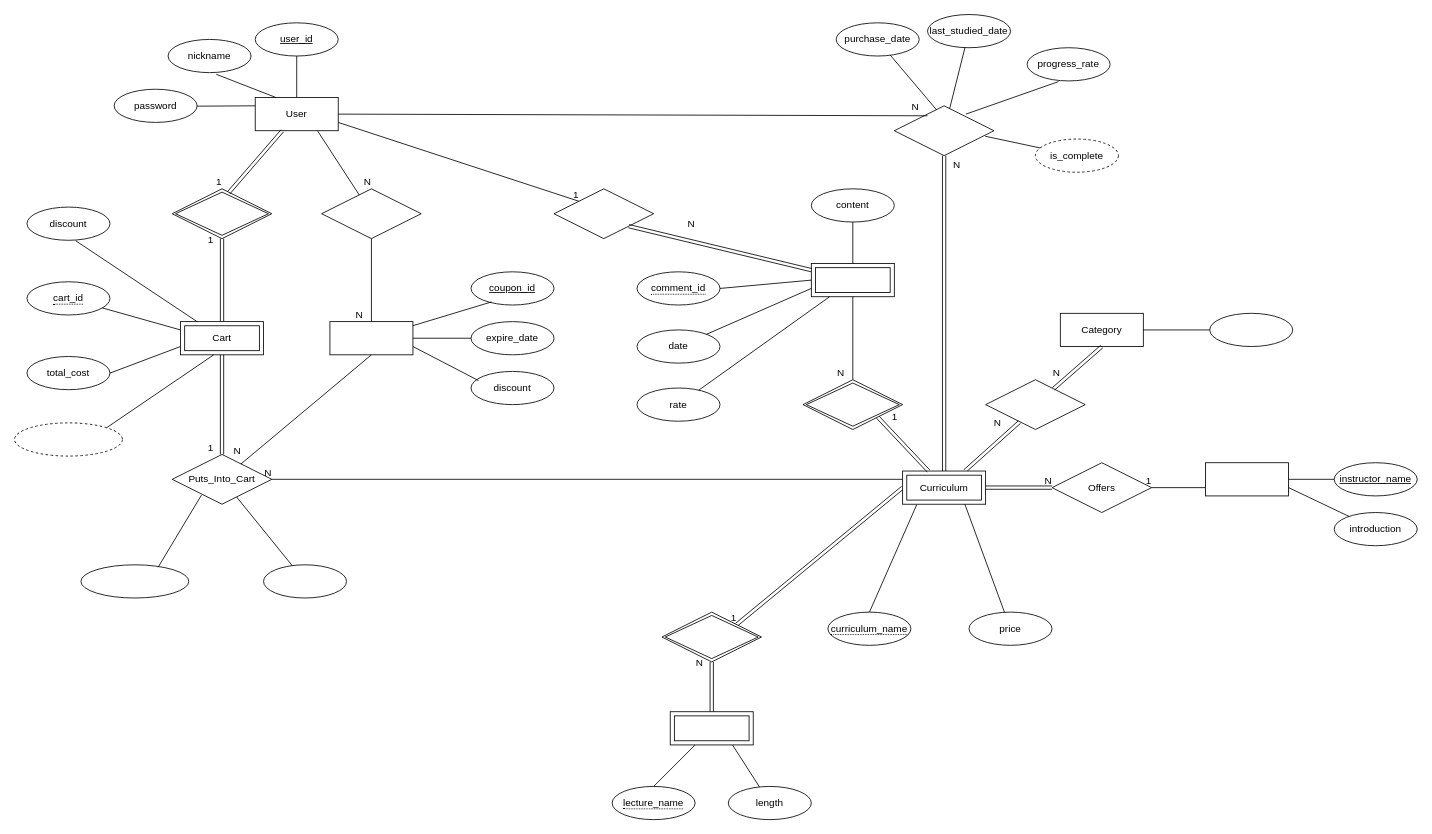
Image size: 1432x834. Some labels were removed from this diagram. The box of each missing label's shape, as (x1, y1, x2, y2) in pixels:
checked_for_purchase: (80, 564, 189, 598)
Comment: (810, 263, 894, 297)
Contains: (802, 379, 903, 430)
Coupon: (329, 321, 413, 355)
coupon_used: (263, 564, 347, 598)
discounted_total_cost: (14, 422, 122, 456)
Falls_into: (985, 379, 1085, 430)
Has: (321, 188, 421, 239)
Includes: (661, 611, 762, 662)
Instructor: (1205, 462, 1289, 496)
Lecture: (669, 711, 753, 745)
name: (1209, 312, 1293, 347)
Orders: (171, 188, 272, 239)
Takes: (893, 105, 994, 156)
Writes: (553, 188, 654, 239)
